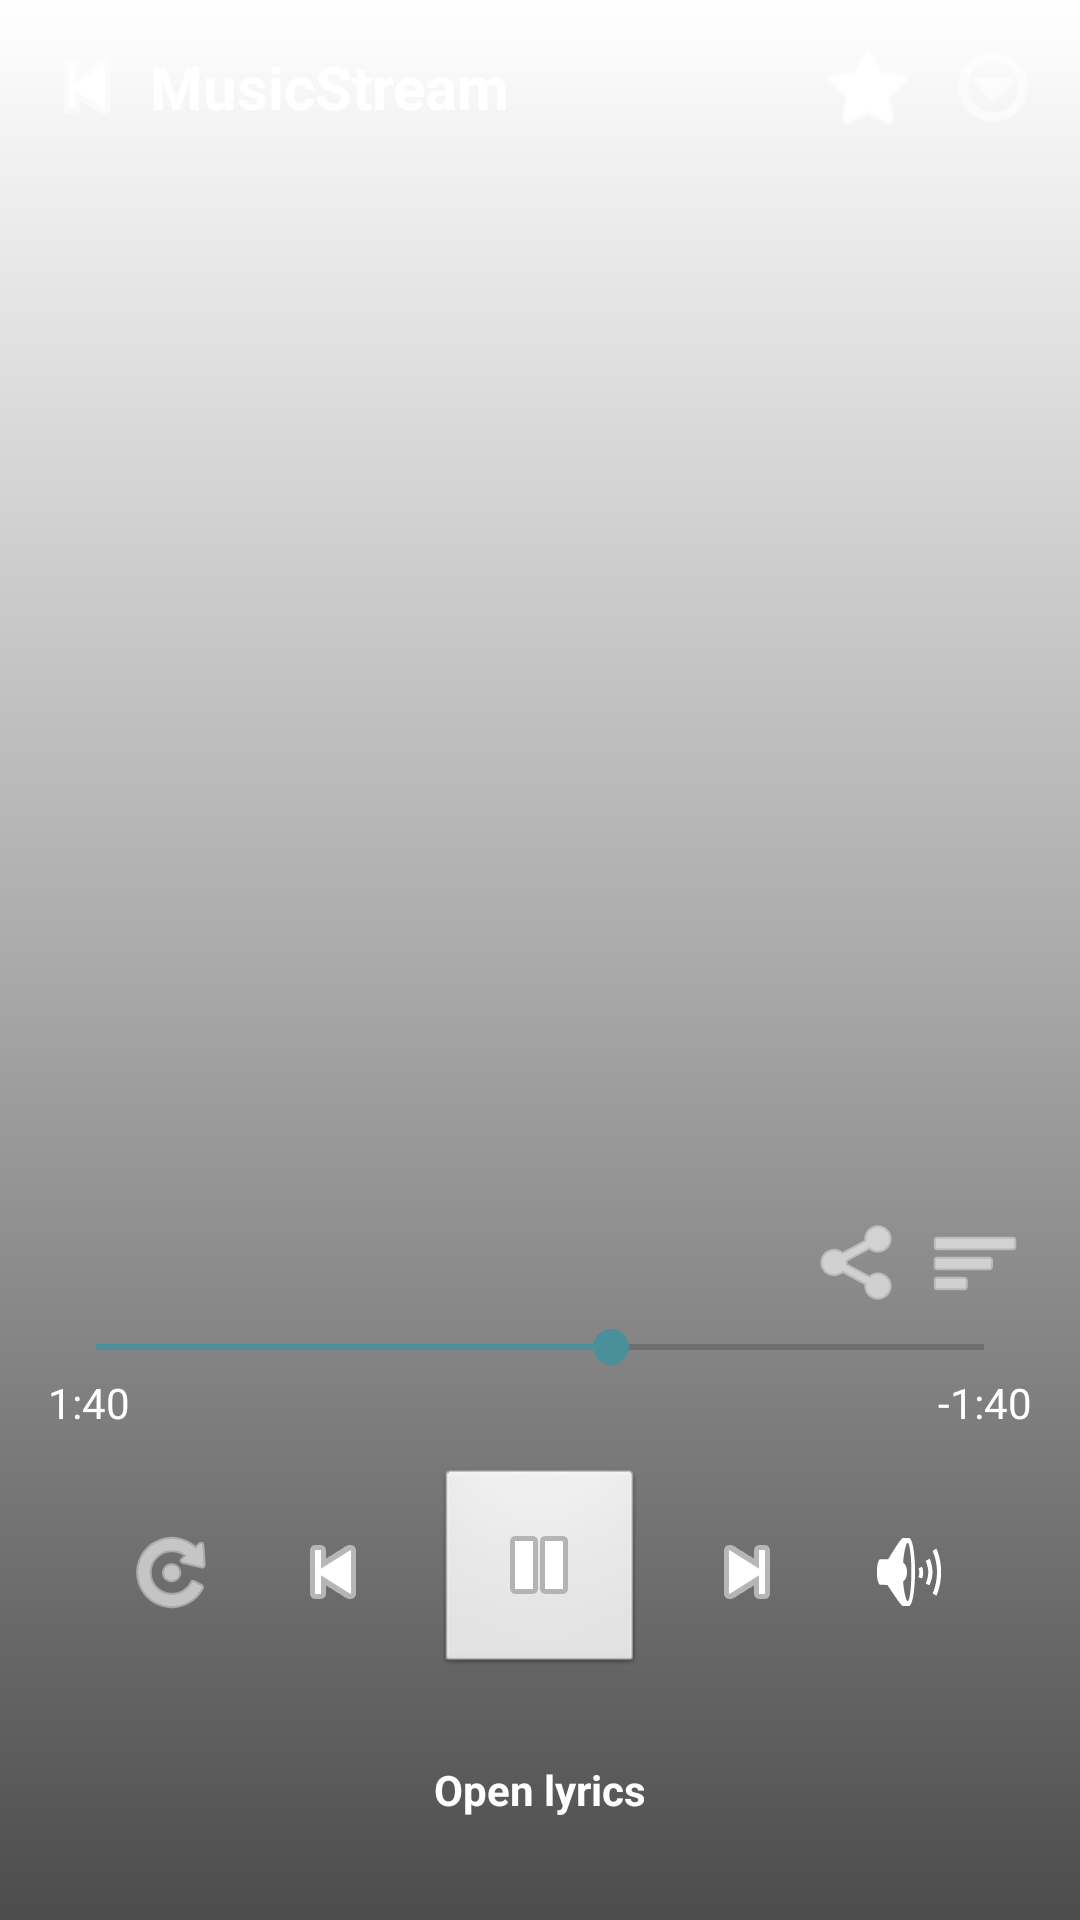

Named icons in this screenshot (1080 x 1920) and their bounding boxes, (x1, y1, x2, y2):
lock silent mode off: (877, 1538, 941, 1606)
next: (724, 1545, 770, 1599)
pause: (445, 1470, 633, 1662)
previous: (310, 1545, 356, 1599)
rotate: (136, 1537, 206, 1608)
share: (821, 1225, 892, 1300)
sort by size: (934, 1237, 1016, 1290)
